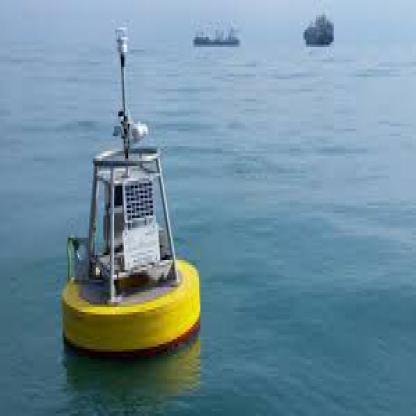buoy: (48, 23, 209, 366)
